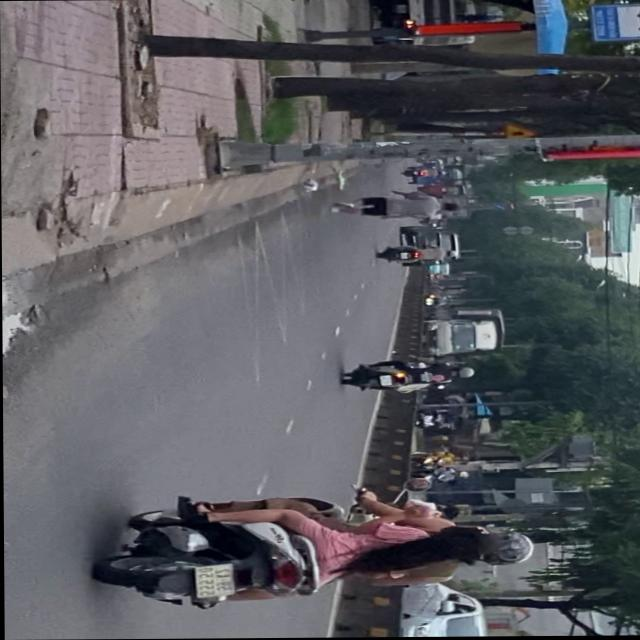helmet: (471, 531, 534, 567)
licenseplate: (93, 489, 538, 613)
motorcyclist: (422, 522, 489, 565)
nohelmet: (197, 565, 234, 597)
